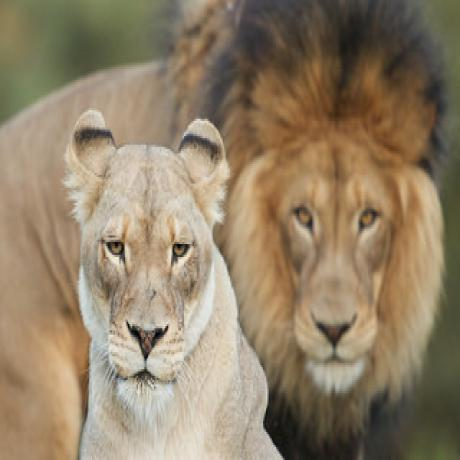Lion: (223, 0, 453, 460), (63, 106, 278, 460)
